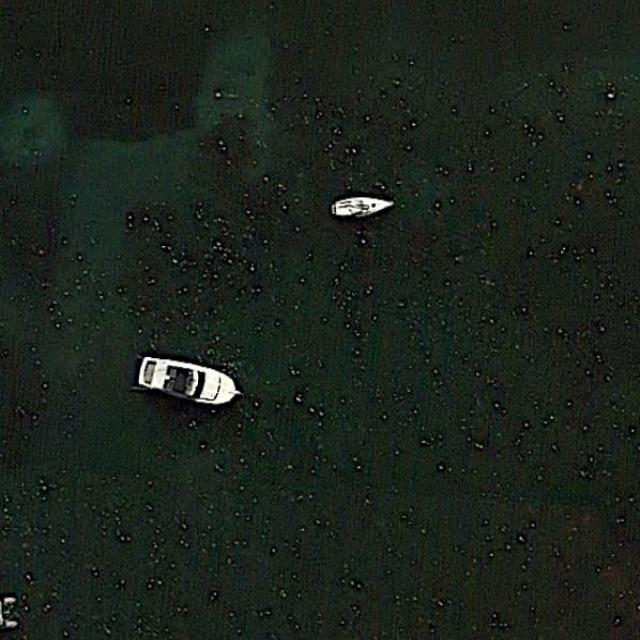ship: (135, 355, 241, 406), (328, 195, 395, 219)
